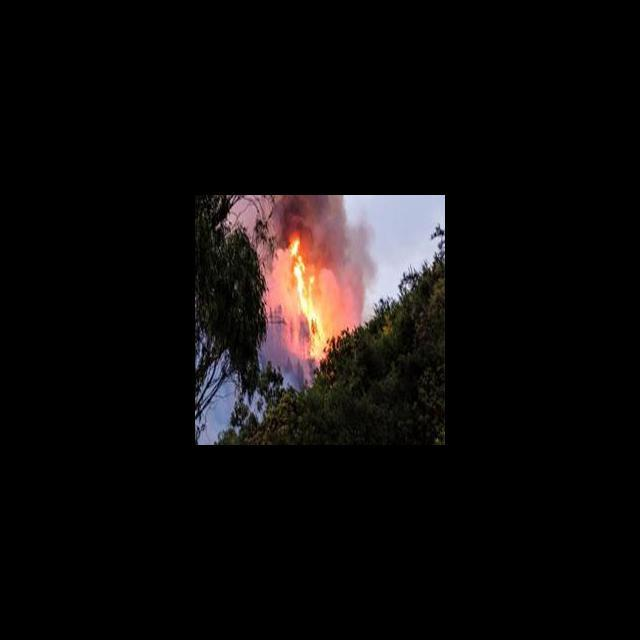Fire: (288, 231, 330, 361)
